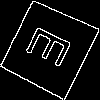E: (24, 24, 82, 74)
